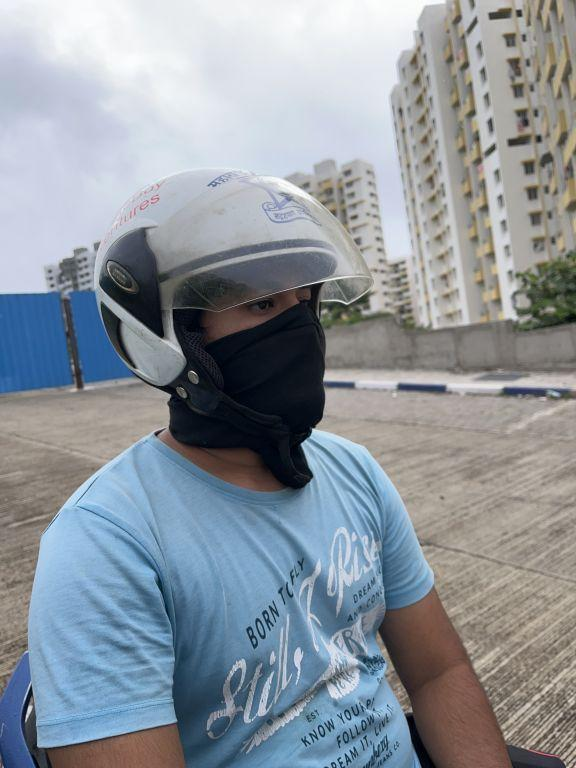helmet: (82, 160, 384, 447)
